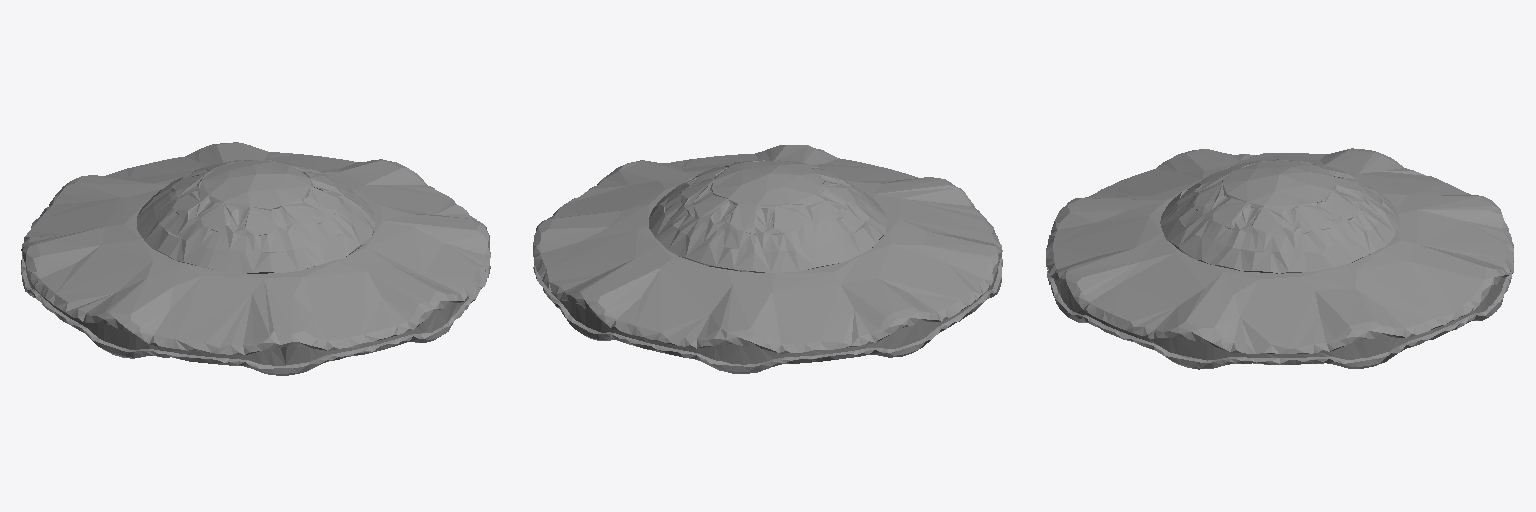
Rendered from frame_047.obj.
The picture shows the model from 3 angles: view 1: azimuth 30°, elevation 25°; view 2: azimuth 150°, elevation 25°; view 3: azimuth 270°, elevation 25°; orthographic projection.
Visible parts, largest first — view 1: 13884_UFO_Saucer_v1_l2; view 2: 13884_UFO_Saucer_v1_l2; view 3: 13884_UFO_Saucer_v1_l2.
Boxes of the visible parts, <box> form: 13884_UFO_Saucer_v1_l2: <box>21,142,490,375</box>; 13884_UFO_Saucer_v1_l2: <box>533,145,1002,373</box>; 13884_UFO_Saucer_v1_l2: <box>1046,148,1513,369</box>.
Size of the model in its own units: 12.69 by 4.88 by 12.7.